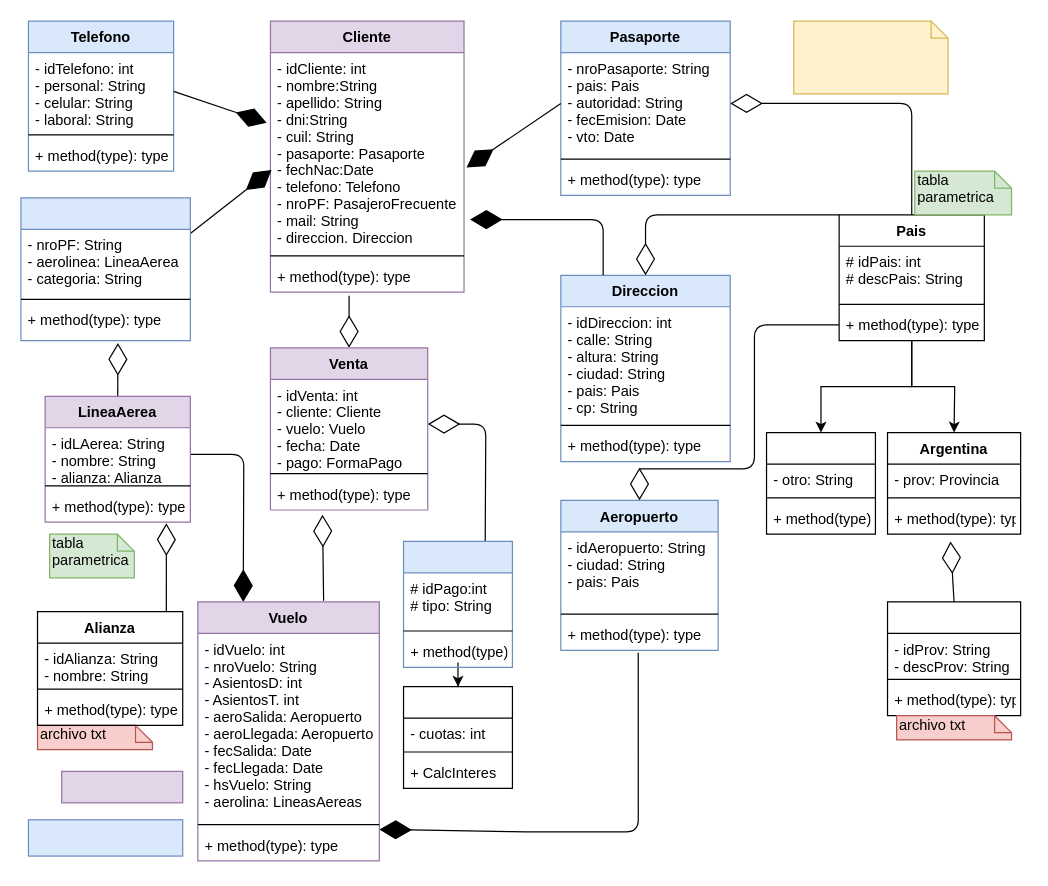
Some shapes in this 1048 by 886 pixel diagram are drawn without their labels. The shapes that lost their labels are listed below. From the top down, each one's box as (x1, y1, x2, y2) in pixels, then its label:
(793, 20, 948, 94): YO SOY LA AGENCIA DE VIAJE
(20, 197, 190, 341): PasajeroFrecuente
(765, 431, 875, 534): OtroPais
(402, 540, 512, 667): FormaPago
(886, 601, 1021, 716): Provincia
(402, 685, 512, 788): TC
(60, 770, 183, 803): Clases violetas persistibles
(27, 819, 183, 856): Clases azules tienen objetos creados
